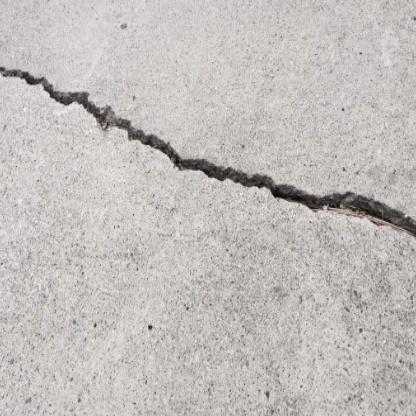Cracks: (0, 57, 416, 248)
